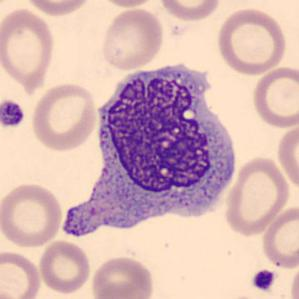Monocyte: (58, 54, 241, 239)
Platelets: (0, 98, 27, 130), (251, 268, 276, 292)
RBC: (221, 154, 292, 236), (214, 5, 288, 77), (28, 80, 99, 152), (0, 5, 57, 94), (0, 180, 65, 249), (99, 6, 165, 72), (250, 64, 298, 130), (88, 253, 155, 299), (37, 239, 92, 295), (260, 204, 299, 271), (0, 248, 43, 298), (274, 121, 299, 192), (156, 0, 221, 22), (22, 0, 93, 17), (90, 281, 145, 299), (94, 0, 162, 8), (288, 260, 299, 299), (0, 287, 22, 298)
